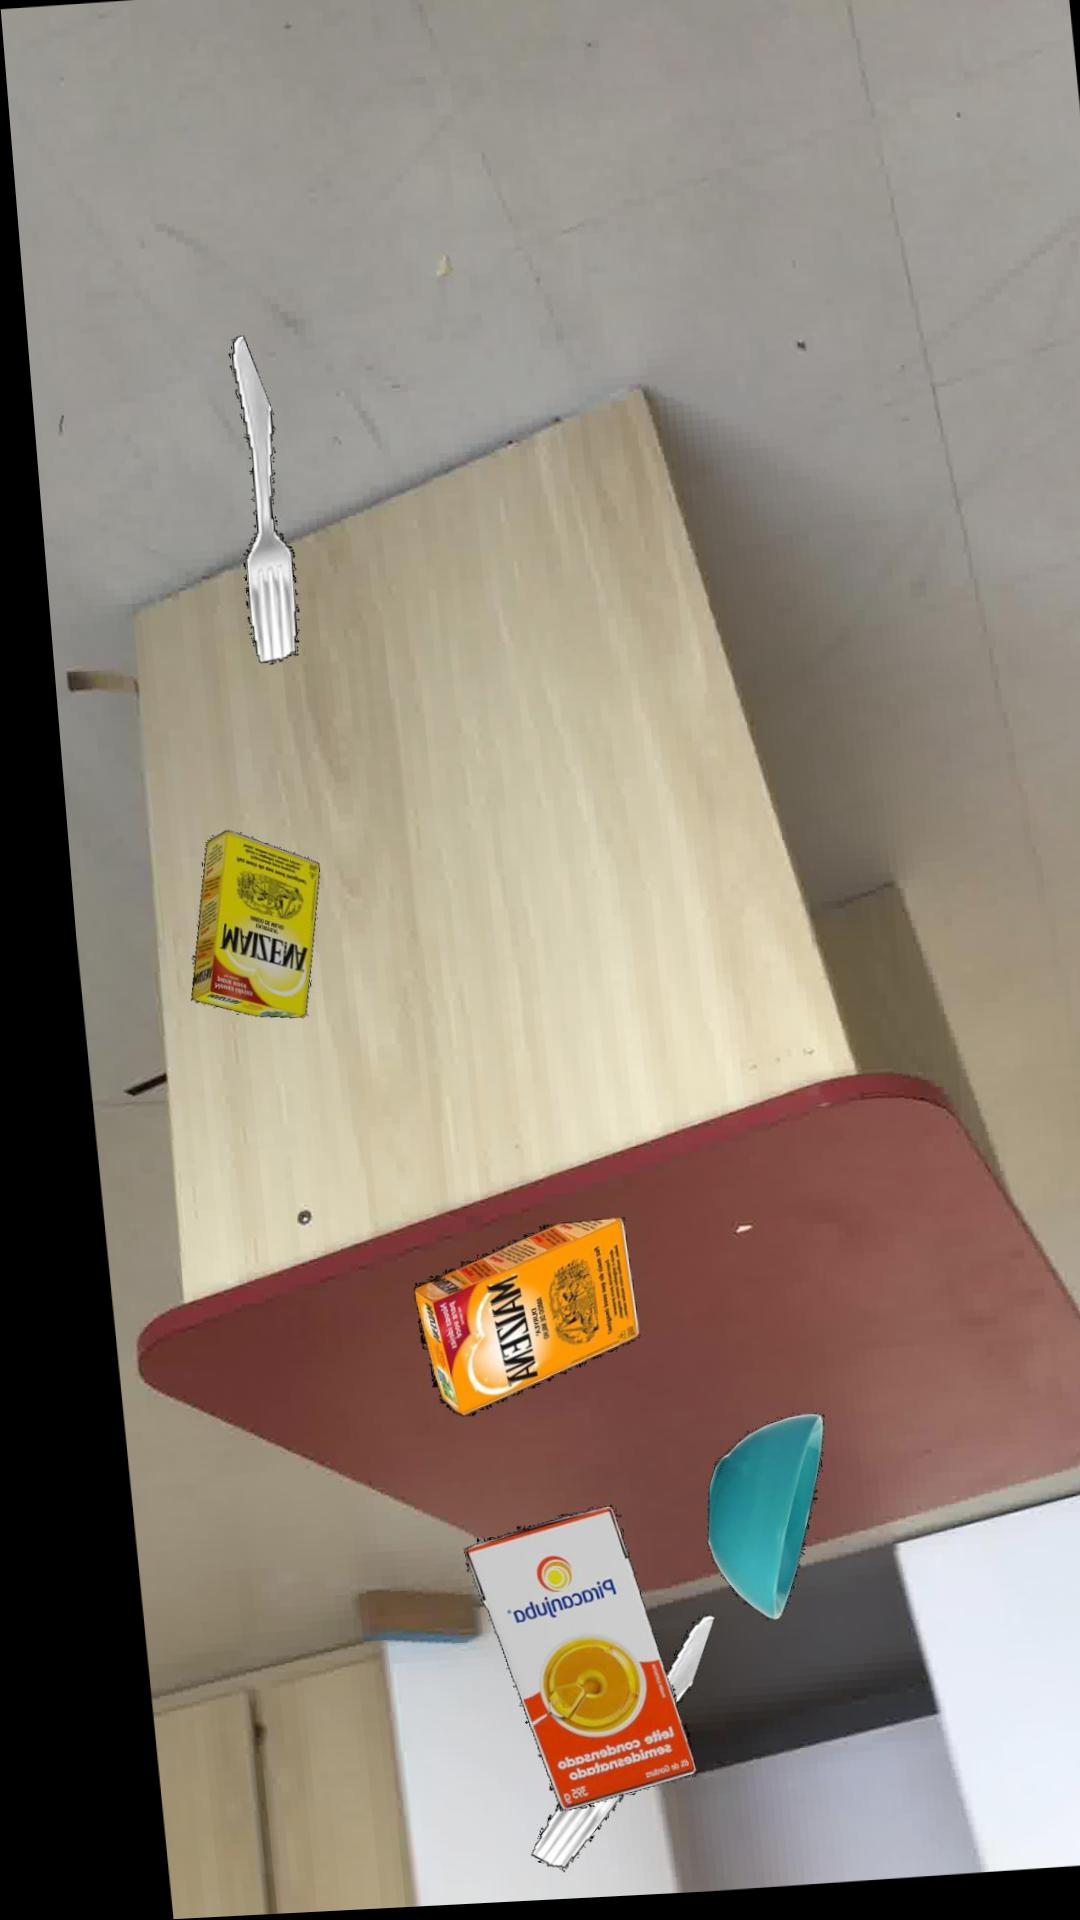bowl: (682, 1423, 800, 1629)
fork: (500, 1623, 687, 1874), (227, 339, 289, 667)
